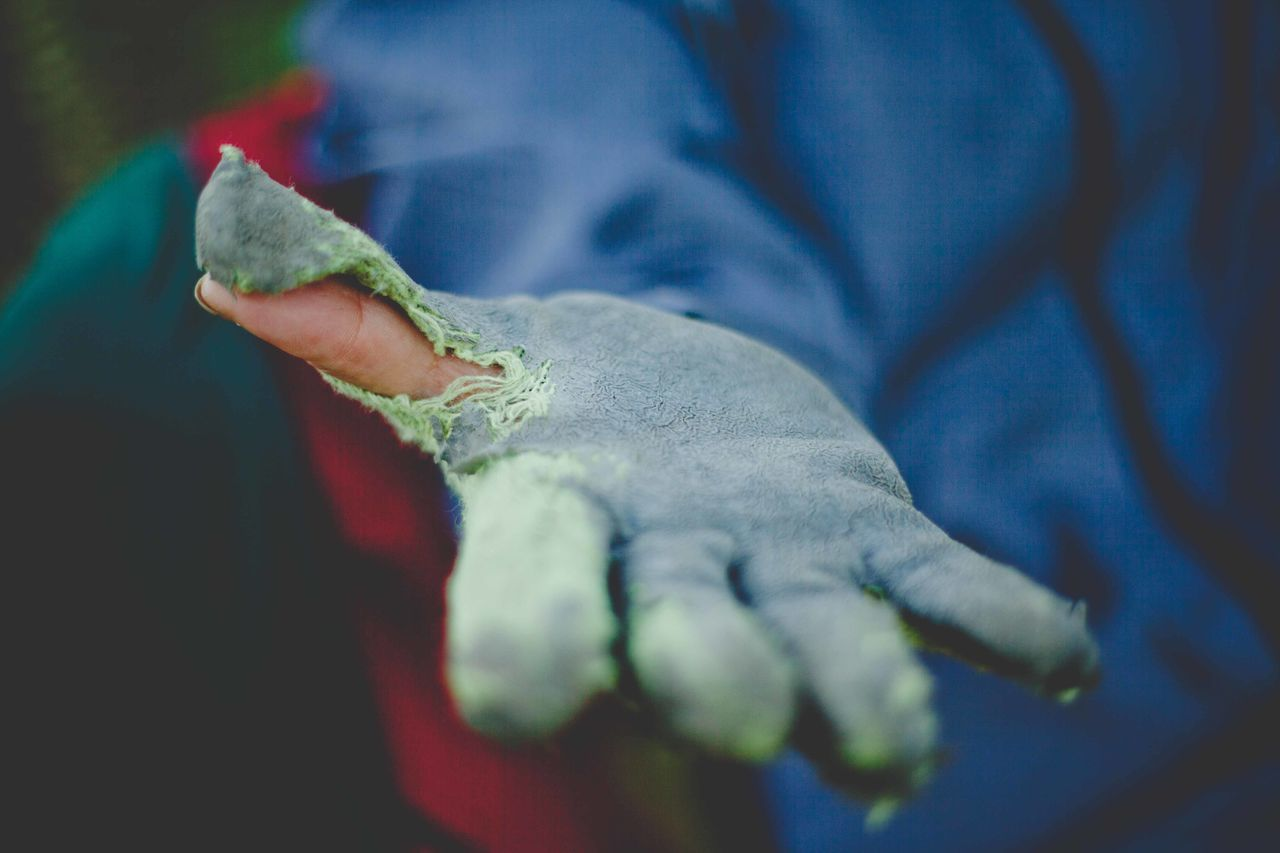defected: (185, 188, 1085, 823)
